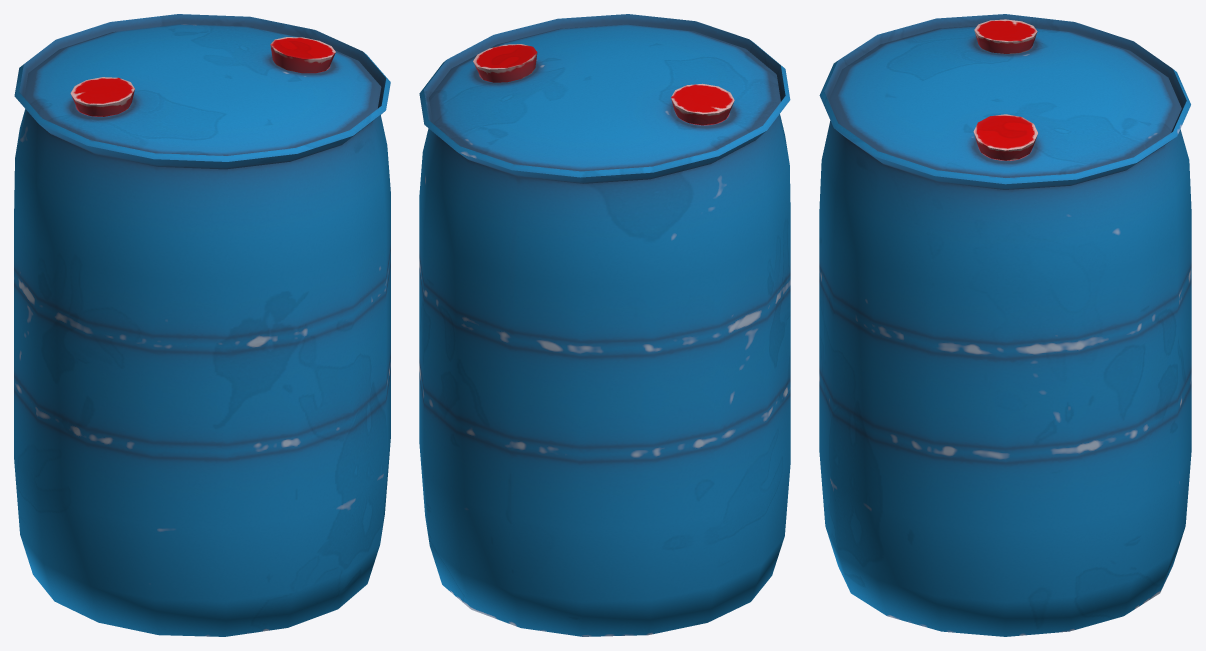
Rendered from BarrelPlastic02.FBX.
The picture shows the model from 3 angles, left to right: view 1: azimuth 30°, elevation 25°; view 2: azimuth 150°, elevation 25°; view 3: azimuth 270°, elevation 25°; orthographic projection. The views are drawn at different scales.
Visible parts, largest first — view 1: BarrelPlastic02; view 2: BarrelPlastic02; view 3: BarrelPlastic02.
Boxes of the visible parts, box(x1,y1,x2,y2) form: BarrelPlastic02: box(14, 14, 390, 636); BarrelPlastic02: box(419, 14, 790, 636); BarrelPlastic02: box(819, 14, 1191, 636).
Size of what is drawn, in the model's own units: 0.7798 by 1.13 by 0.7798.
